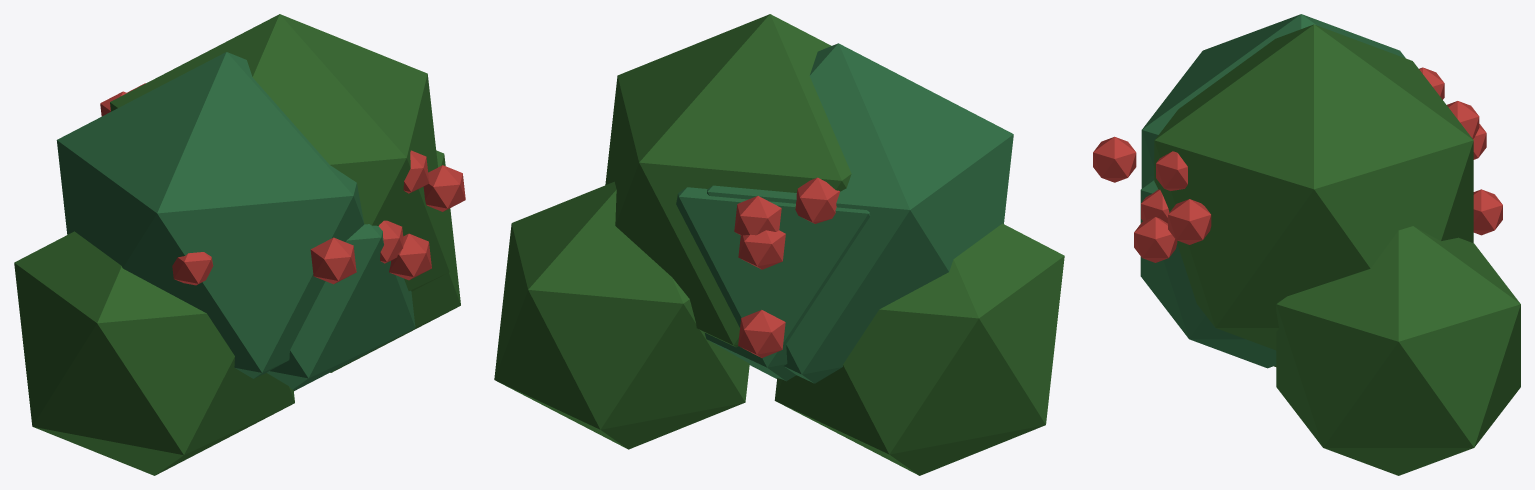
The model's file is buisson_foret_2.glb.
3 views of the same model, side by side, from view 1: azimuth 30°, elevation 25°; view 2: azimuth 150°, elevation 25°; view 3: azimuth 270°, elevation 25° (orthographic). The views are drawn at different scales.
Visible parts, largest first — view 1: feuillage_feuille_sombre.012, feuillage_pin.004, feuillage_rouge.002; view 2: feuillage_feuille_sombre.012, feuillage_pin.004, feuillage_rouge.002; view 3: feuillage_feuille_sombre.012, feuillage_pin.004, feuillage_rouge.002.
Boxes of the visible parts, <box> form: feuillage_feuille_sombre.012: <box>14,14,460,475</box>; feuillage_pin.004: <box>56,52,415,390</box>; feuillage_rouge.002: <box>100,83,465,285</box>; feuillage_feuille_sombre.012: <box>494,14,1064,475</box>; feuillage_pin.004: <box>676,43,1013,383</box>; feuillage_rouge.002: <box>734,177,839,357</box>; feuillage_feuille_sombre.012: <box>1154,24,1520,475</box>; feuillage_pin.004: <box>1140,14,1405,368</box>; feuillage_rouge.002: <box>1093,67,1502,262</box>.
Bounding box in the file's own units: 0.6218 × 0.5392 × 0.5045.
